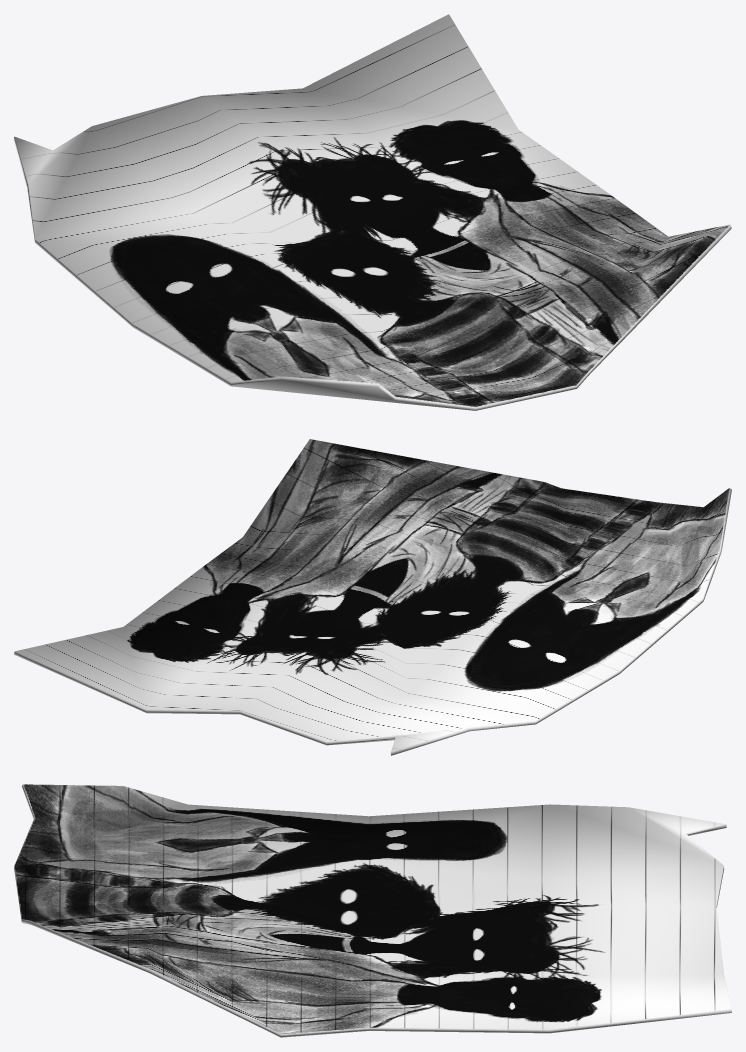
Rendered from Dibujo 4.fbx.
3 views of the same model, one above another, from view 1: azimuth 30°, elevation 25°; view 2: azimuth 150°, elevation 25°; view 3: azimuth 270°, elevation 25° (orthographic). The views are drawn at different scales.
Visible parts, largest first — view 1: papel 4; view 2: papel 4; view 3: papel 4.
Boxes of the visible parts, <box> form: papel 4: <box>14,14,731,410</box>; papel 4: <box>14,439,731,755</box>; papel 4: <box>14,784,731,1037</box>.
Size of the model in its own units: 29.84 by 4 by 39.14.
Materials: 1 (1 with a texture image).
